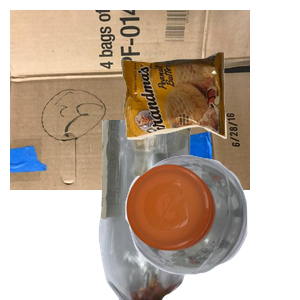cardboard: (10, 10, 250, 190)
glass: (96, 120, 283, 300)
plastic: (123, 152, 300, 300)
trash: (120, 50, 300, 182)
